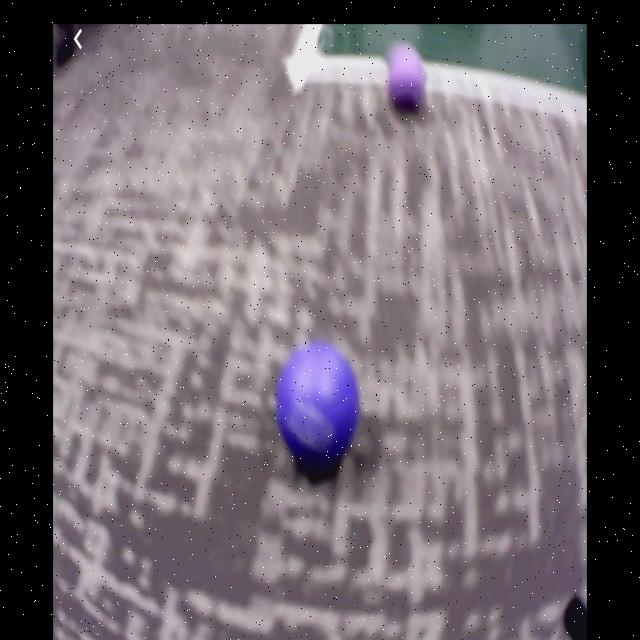ball: (278, 343, 361, 473), (387, 41, 427, 119)
